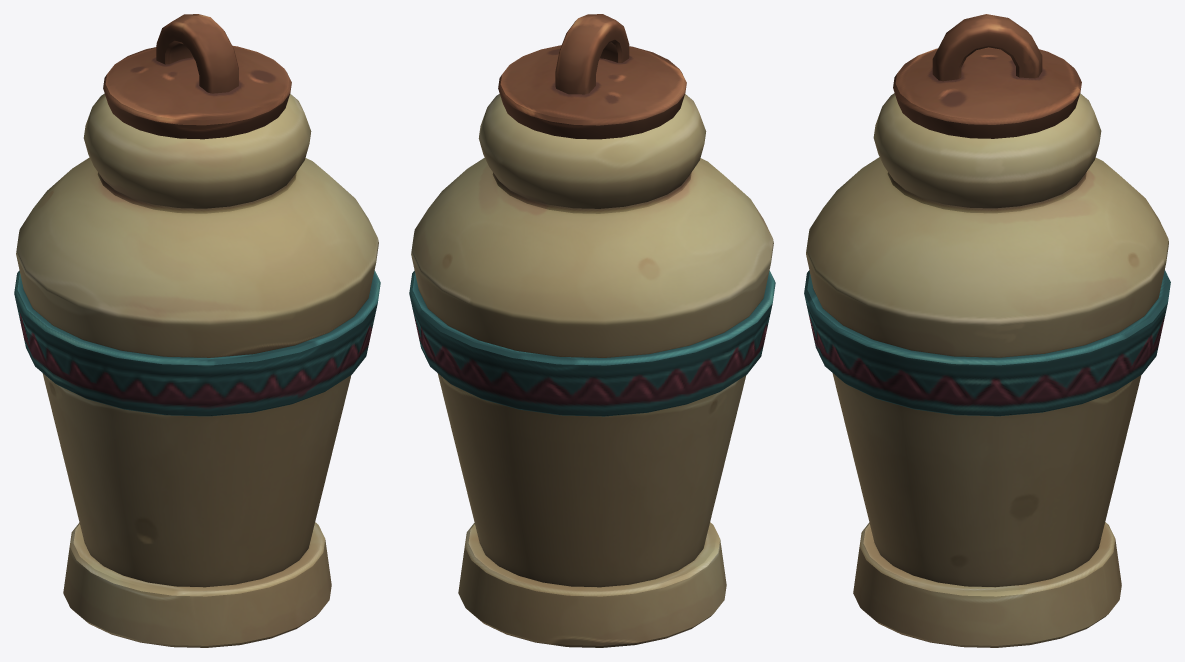
The model's file is jug_01.fbx.
3 views of the same model, side by side, from view 1: azimuth 30°, elevation 25°; view 2: azimuth 150°, elevation 25°; view 3: azimuth 270°, elevation 25° (orthographic).
Parts seen in each view (by area): view 1: wh_jug_01; view 2: wh_jug_01; view 3: wh_jug_01.
Boxes of the visible parts, x1,y1,x2,y2 form: wh_jug_01: [14, 14, 380, 647]; wh_jug_01: [409, 14, 775, 647]; wh_jug_01: [804, 14, 1170, 647].
Size of the model in its own units: 1.09 by 1.88 by 1.09.
